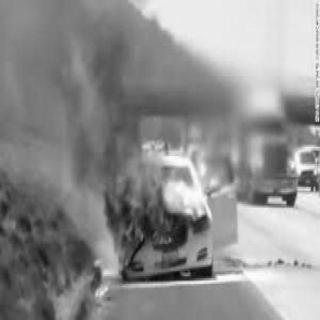Fire: (94, 111, 176, 265)
